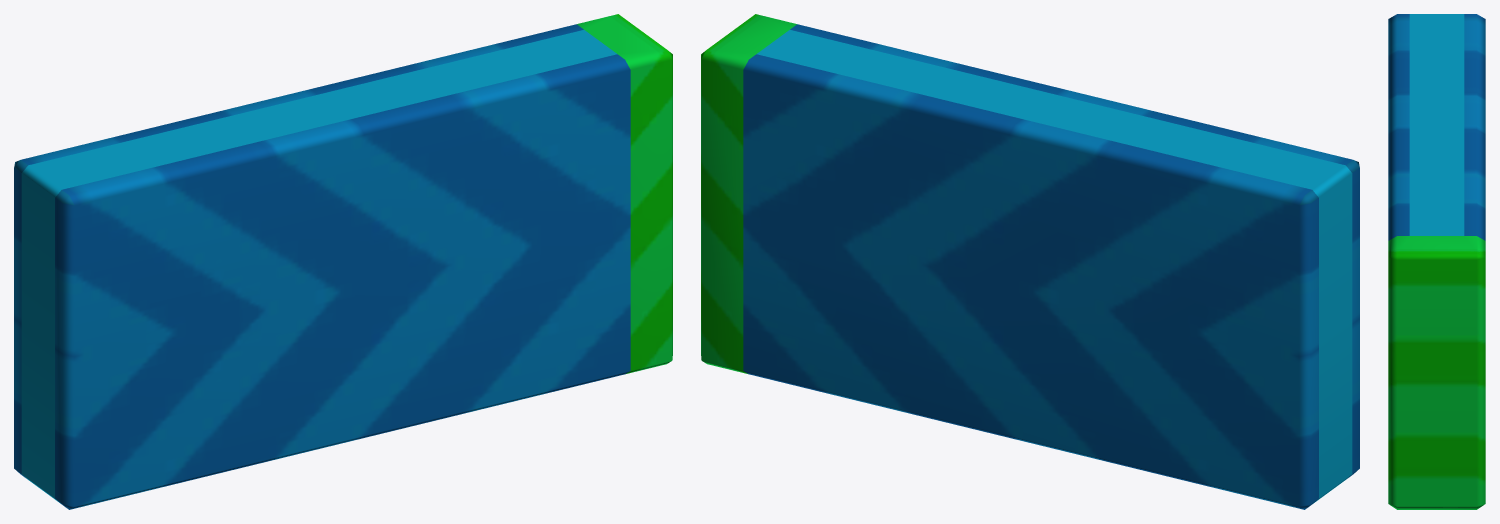
Rendered from Toy_MovingWallUGC_B_000_1x1.glb.
The picture shows the model from 3 angles, left to right: view 1: azimuth 30°, elevation 25°; view 2: azimuth 150°, elevation 25°; view 3: azimuth 270°, elevation 25°; orthographic projection. The views are drawn at different scales.
Visible parts, largest first — view 1: UGC_Toy_MrBeastMovingWall_A_000; view 2: UGC_Toy_MrBeastMovingWall_A_000; view 3: UGC_Toy_MrBeastMovingWall_A_000.
Part boxes in pixels (x1,y1,x2,y2): UGC_Toy_MrBeastMovingWall_A_000: [14, 14, 672, 509]; UGC_Toy_MrBeastMovingWall_A_000: [701, 14, 1359, 509]; UGC_Toy_MrBeastMovingWall_A_000: [1388, 14, 1485, 509].
Size of the model in its own units: 6.1 by 3 by 1.03.
Materials: 1 (1 with a texture image).
